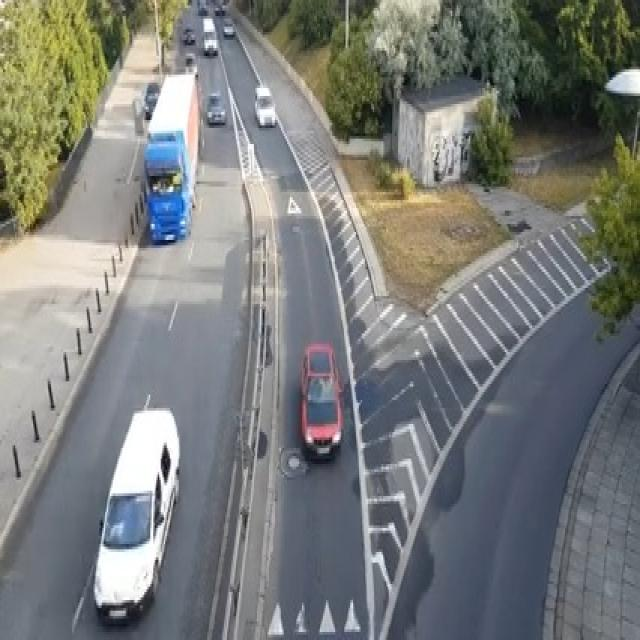car: (97, 411, 181, 639), (292, 341, 346, 458), (250, 82, 282, 131), (207, 91, 230, 129), (203, 15, 221, 57), (183, 21, 195, 43), (227, 18, 233, 47)
truck: (146, 75, 197, 242)
